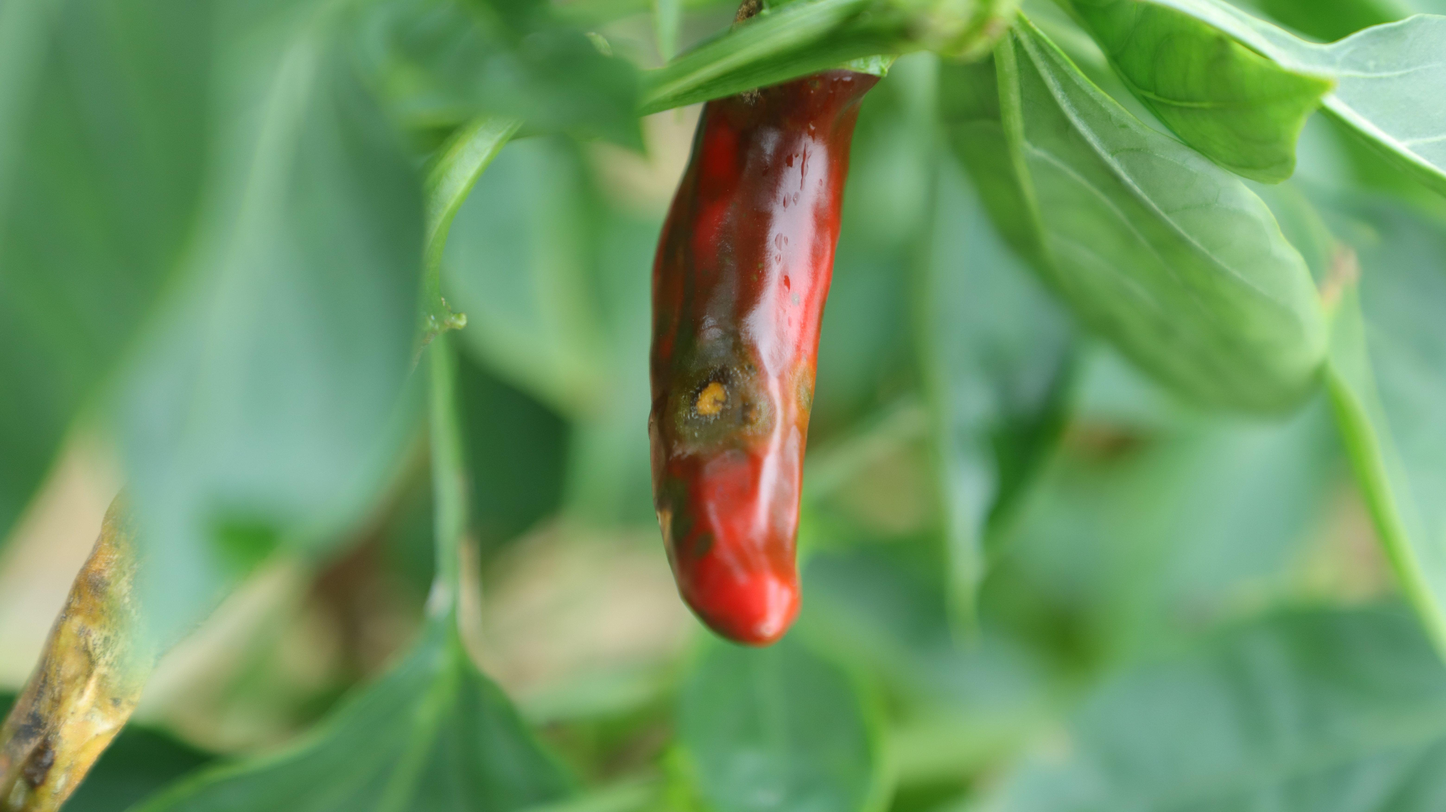Busuk Buah Antraknosa: (643, 12, 885, 649)
